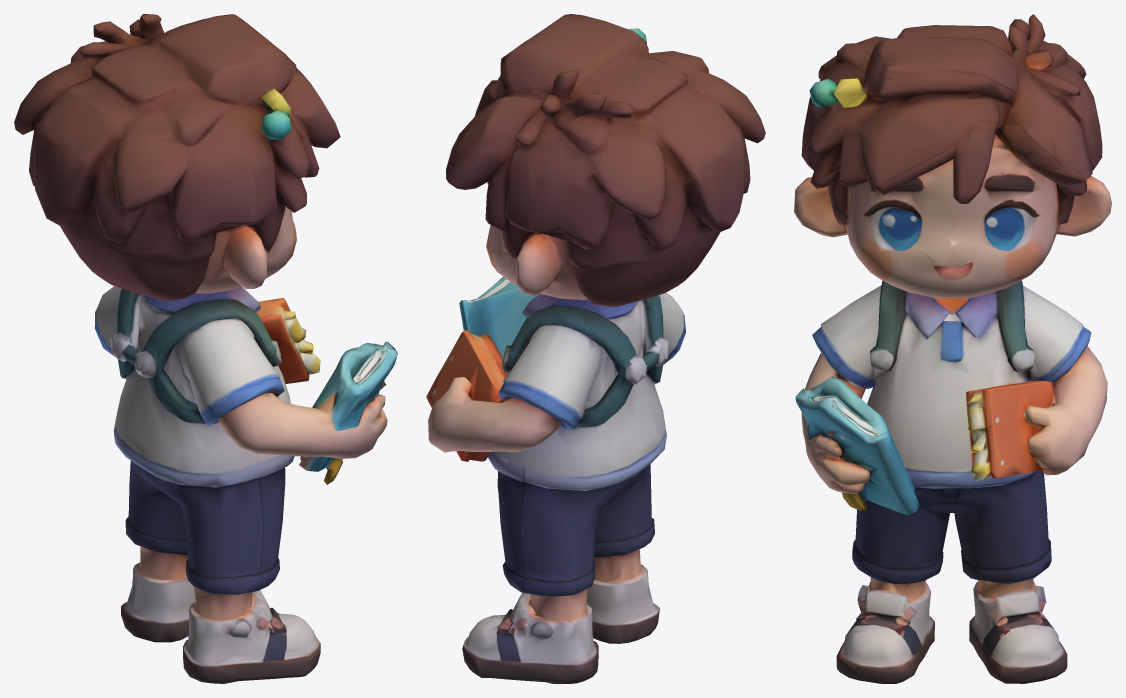
File: school_age.glb
3 renders of one model, left to right at view 1: azimuth 30°, elevation 25°; view 2: azimuth 150°, elevation 25°; view 3: azimuth 270°, elevation 25°, orthographic.
Parts seen in each view (by area): view 1: node_ffaaaac6-279d-4709-ab5e-063f931bb7c8; view 2: node_ffaaaac6-279d-4709-ab5e-063f931bb7c8; view 3: node_ffaaaac6-279d-4709-ab5e-063f931bb7c8.
Boxes of the visible parts, x1,y1,x2,y2 form: node_ffaaaac6-279d-4709-ab5e-063f931bb7c8: (14, 14, 397, 683); node_ffaaaac6-279d-4709-ab5e-063f931bb7c8: (426, 14, 765, 683); node_ffaaaac6-279d-4709-ab5e-063f931bb7c8: (794, 14, 1111, 683).
Size of the model in its own units: 0.5324 by 1 by 0.4712.
1 material, 1 textured.
